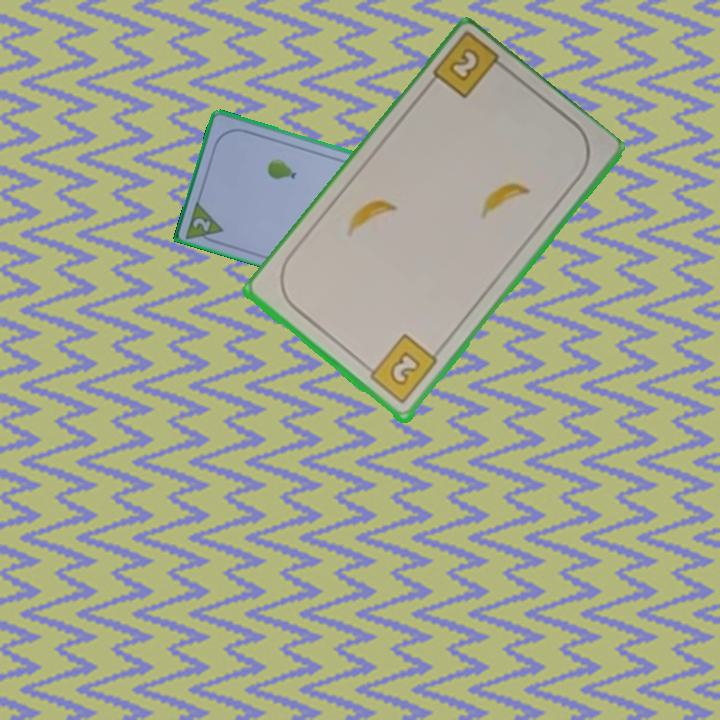2b: (360, 331, 441, 408), (429, 32, 513, 103)
2p: (182, 196, 227, 247)
